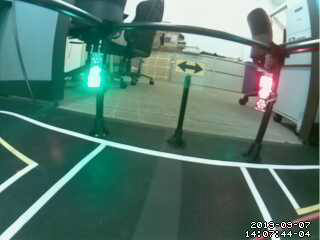Left_Right_sign: (176, 58, 206, 78)
Traffic_light_green: (87, 51, 104, 96)
Traffic_light_red: (256, 68, 275, 113)
